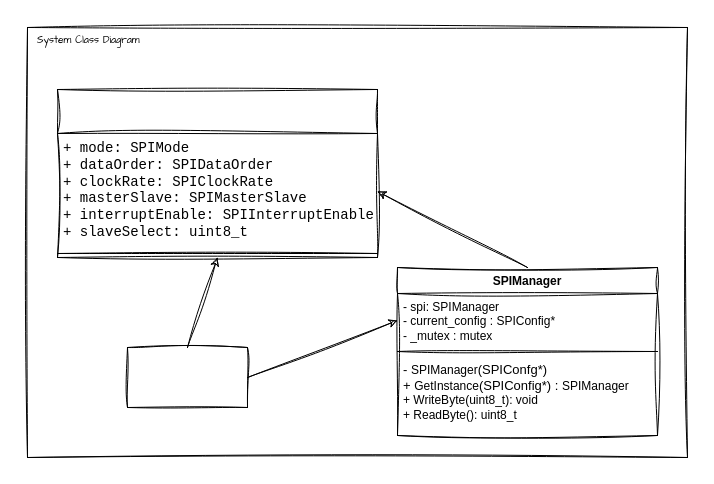
Image size: 714x484. Some labels were removed from this diagram. The box of each missing label's shape, as (x1, y1, x2, y2) in pixels:
Application: (126, 346, 248, 408)
SPIConfig <<struct>>: (56, 88, 378, 258)
